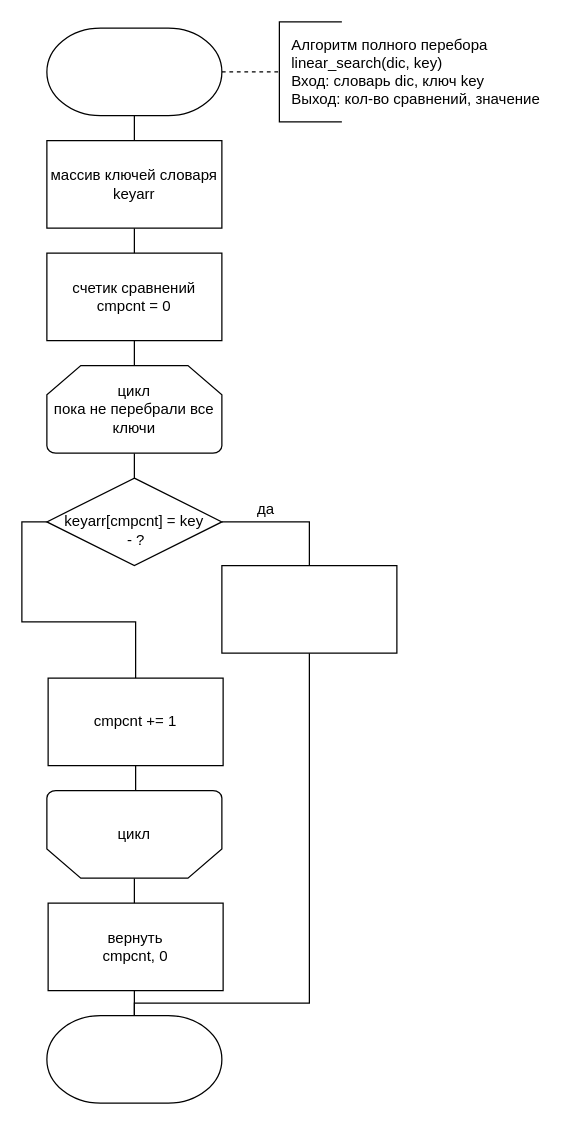
This 574x1125 diagram has some shape labels left out. The centre of each missing label's shape, as x and y in pixels:
"вернуть cmpcnt+1, значение по ключу" goes at point 309,608.
"Конец" goes at point 134,1058.
"Начало" goes at point 134,71.
